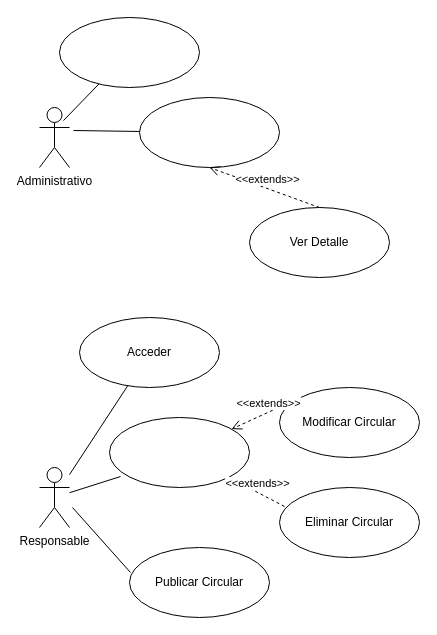
The diagram is 437 pixels wide and 635 high, and some of its shapes have lost their labels. Here are the shapes that lost their labels. From the top down, the centre of each, then its label:
(x=129, y=52): Suscribirse al Boletín
(x=209, y=132): Buscar por Fecha
(x=179, y=452): Buscar Circular
